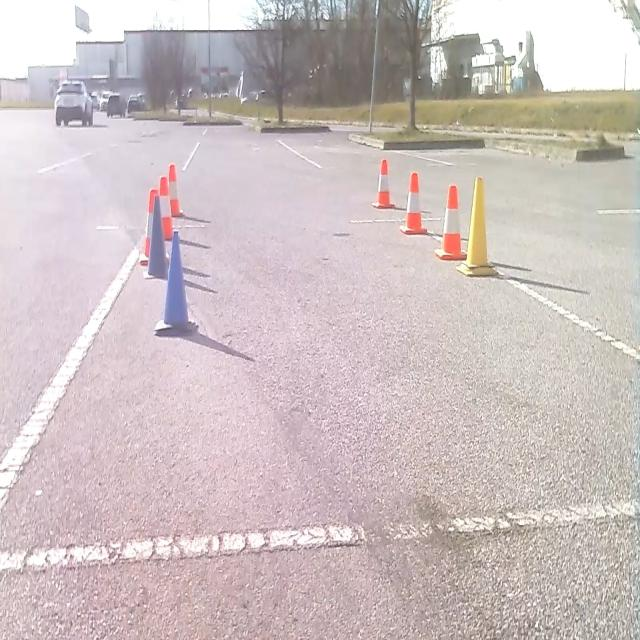blue_cone: (153, 228, 197, 336), (145, 194, 168, 278)
orange_cone: (434, 183, 466, 261), (399, 170, 427, 235), (138, 187, 158, 264), (372, 156, 394, 210), (158, 175, 174, 239), (167, 162, 184, 217)
yellow_cone: (456, 174, 497, 277)
